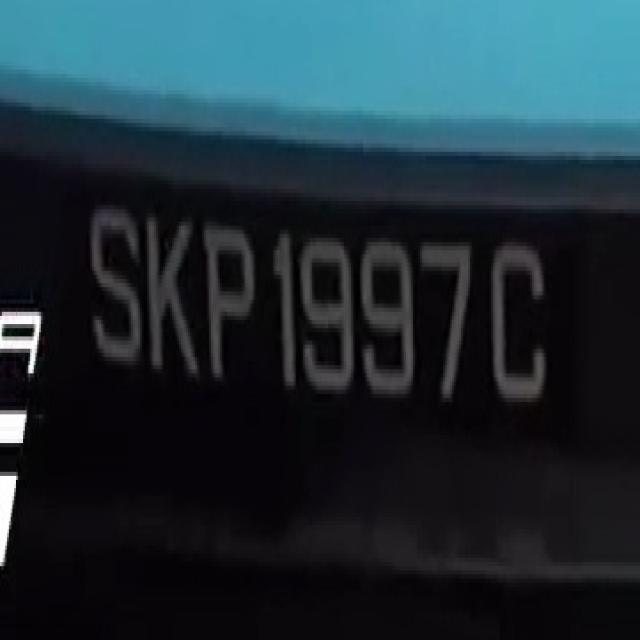1: (276, 201, 298, 398)
7: (422, 214, 477, 410)
9: (358, 205, 419, 414), (296, 222, 356, 410)
C: (500, 225, 544, 422)
K: (140, 197, 199, 386)
P: (198, 201, 259, 394)
S: (89, 181, 140, 369)
